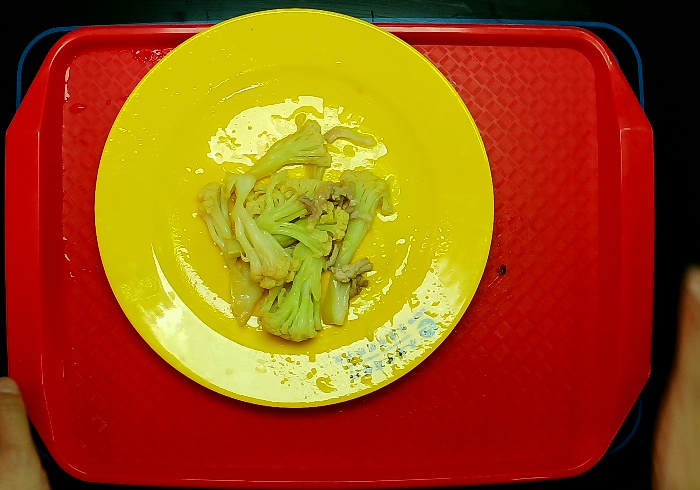YKMZ-Huang_Se_Mian_Pan: (92, 1, 494, 412)
